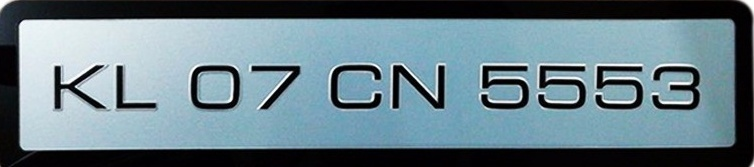character: (387, 59, 448, 114), (50, 58, 108, 112), (476, 58, 530, 112), (327, 59, 384, 110), (187, 59, 241, 112), (534, 59, 588, 112), (246, 59, 302, 110), (592, 60, 645, 110), (649, 59, 700, 110), (111, 60, 158, 110)
